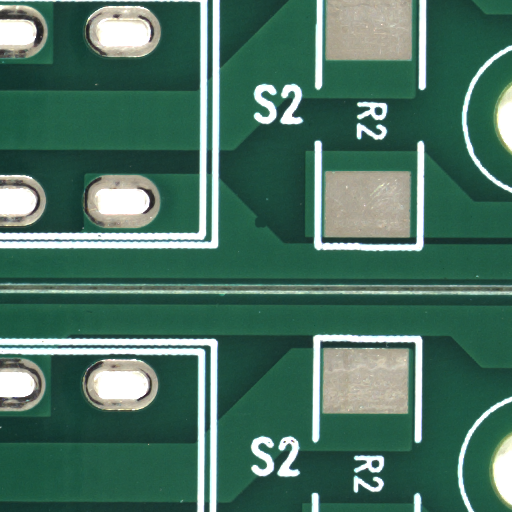Mouse_bite: (260, 222, 273, 233)
